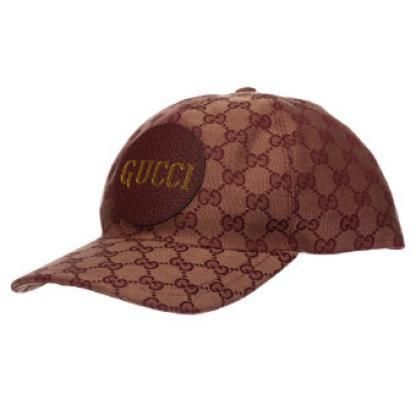cap: (4, 84, 410, 314)
